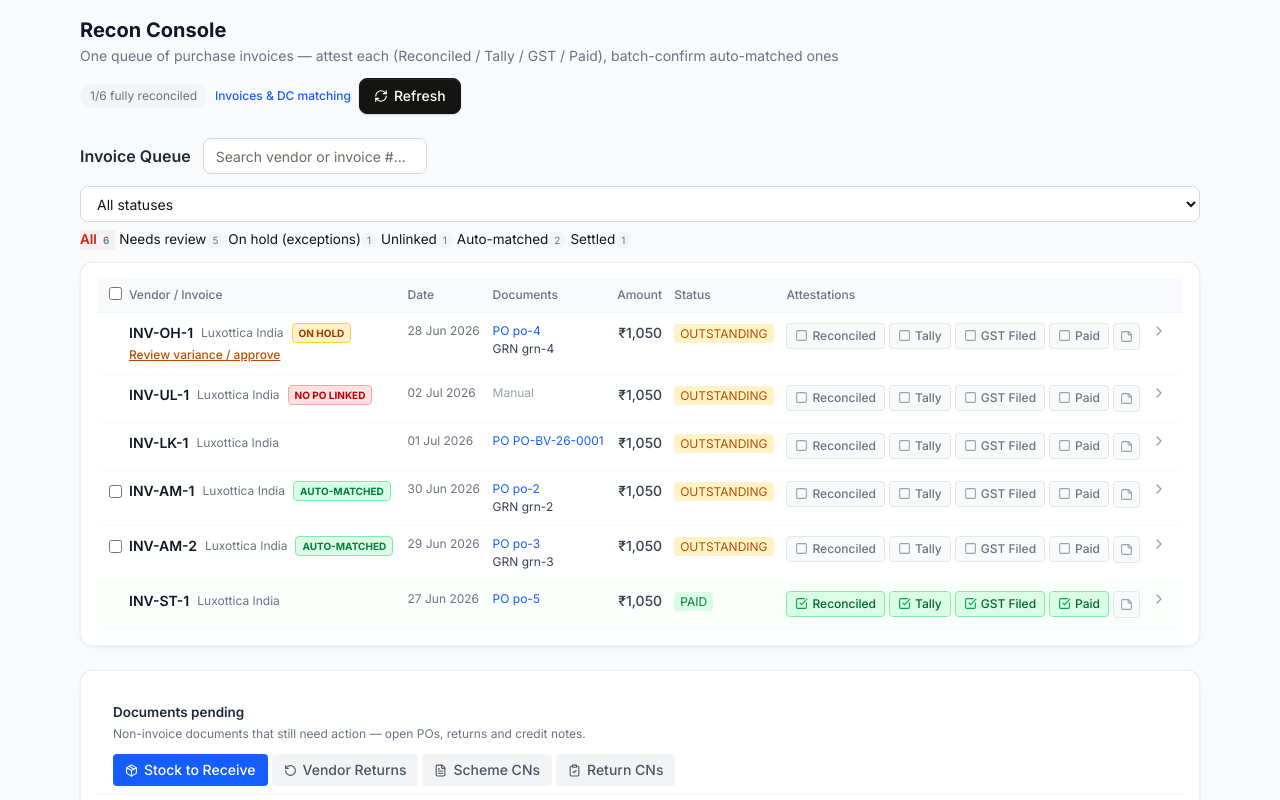
it: unified queue › Unlinked chip filters the queue to unlinked rows only
The width and height of the screenshot is (1280, 800).
Expected: the text "INV-UL-1" is shown, x1=129 y1=385 x2=189 y2=405
Click the tab "Unlinked1".
click(417, 240)  # box x1=381 y1=230 x2=453 y2=250
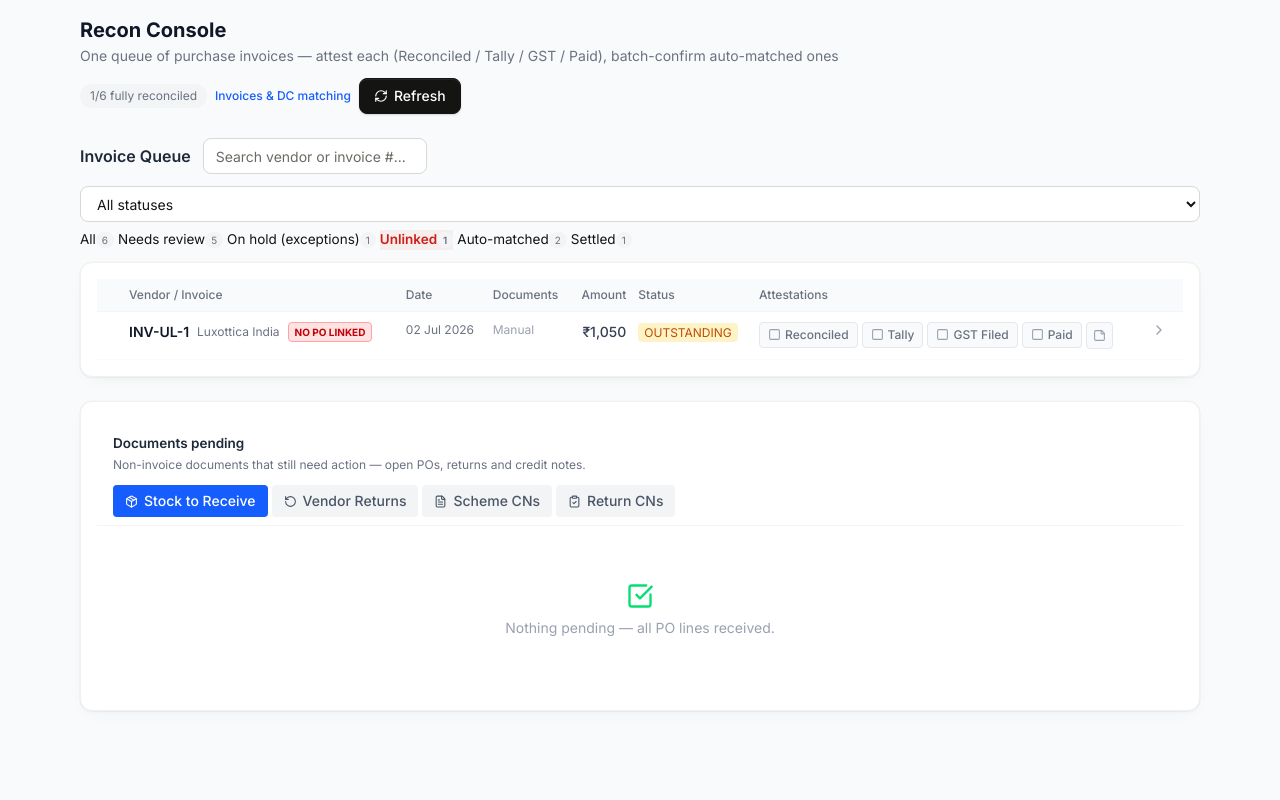
Expected: the text "INV-LK-1" is gone
Expected: the text "INV-AM-1" is gone
Expected: the text "INV-ST-1" is gone
